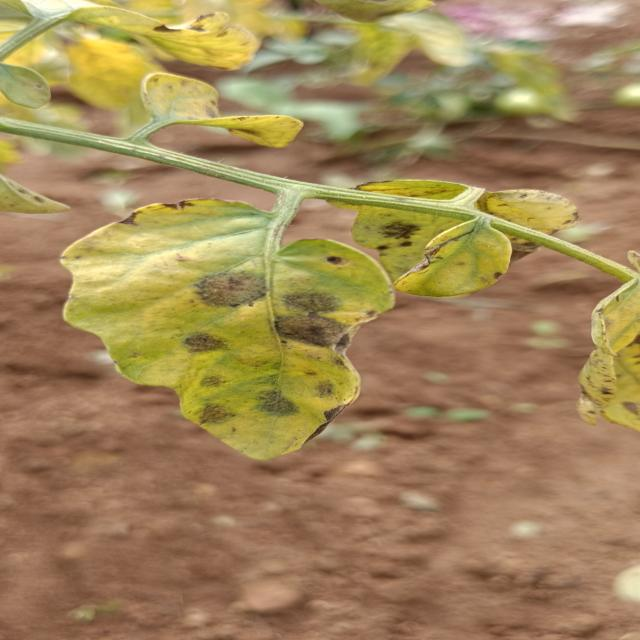tomato_early blight: (59, 195, 390, 461), (346, 176, 590, 308), (133, 65, 303, 153), (32, 0, 264, 64), (398, 212, 512, 298)
